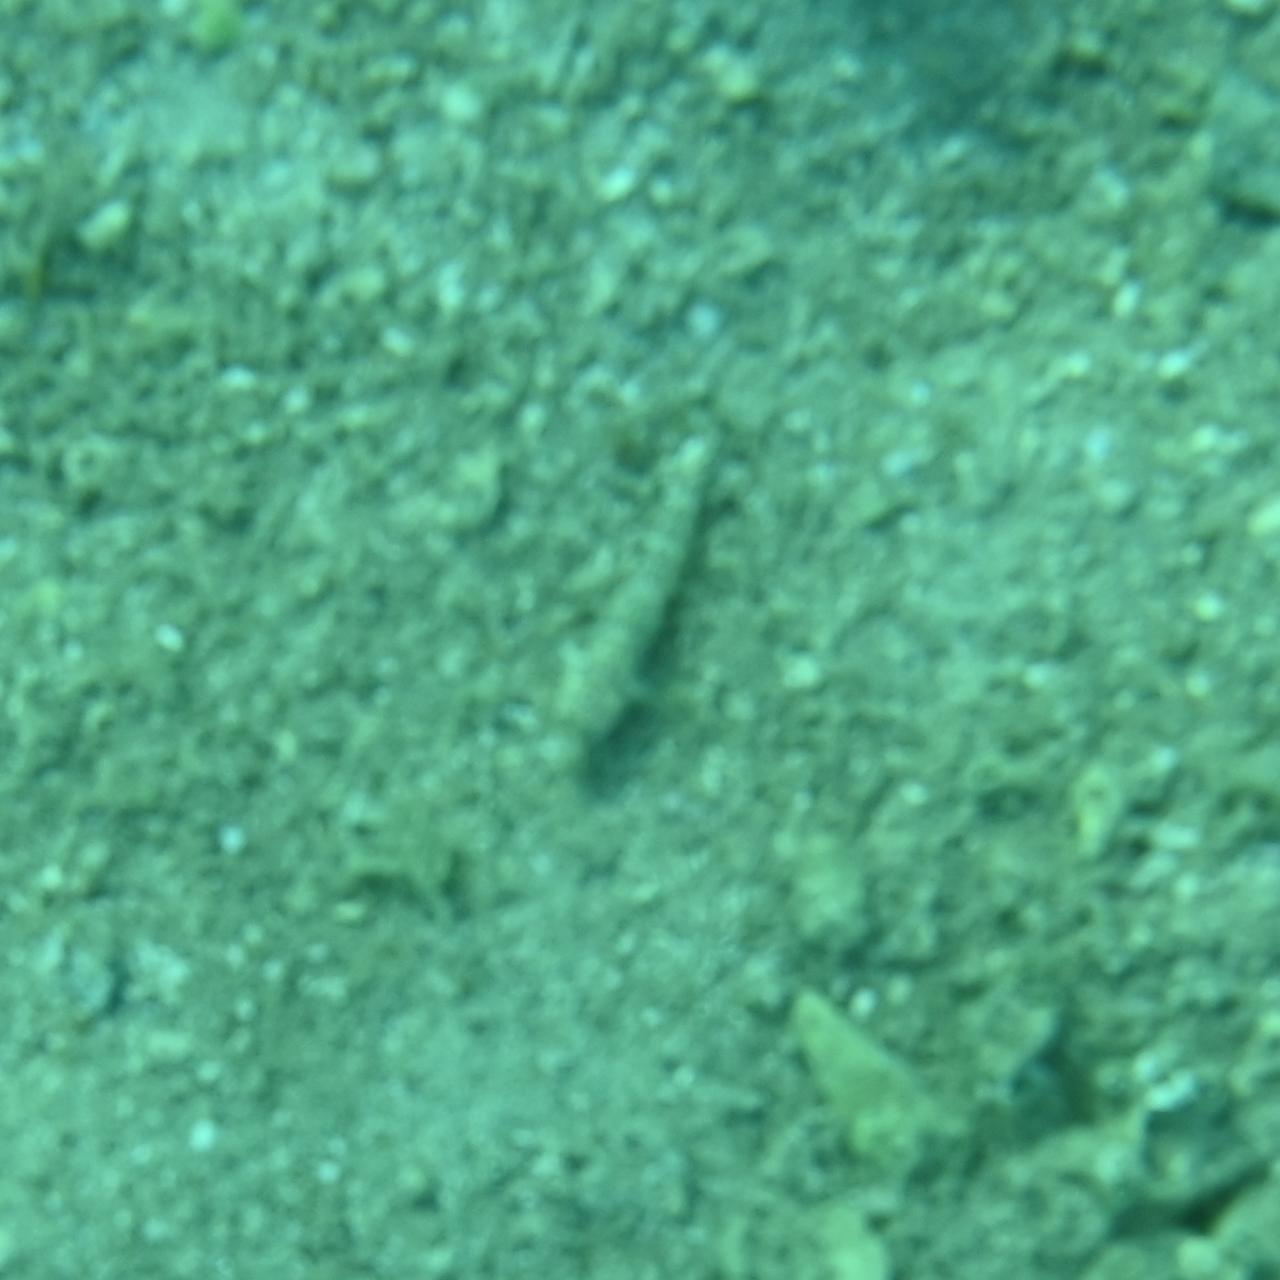Gobius sp: (538, 437, 742, 843)
